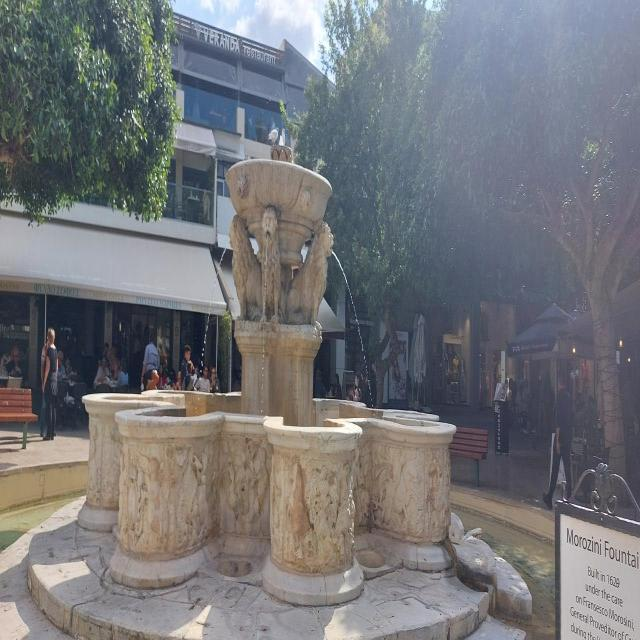Liontaria: (82, 138, 460, 609)
